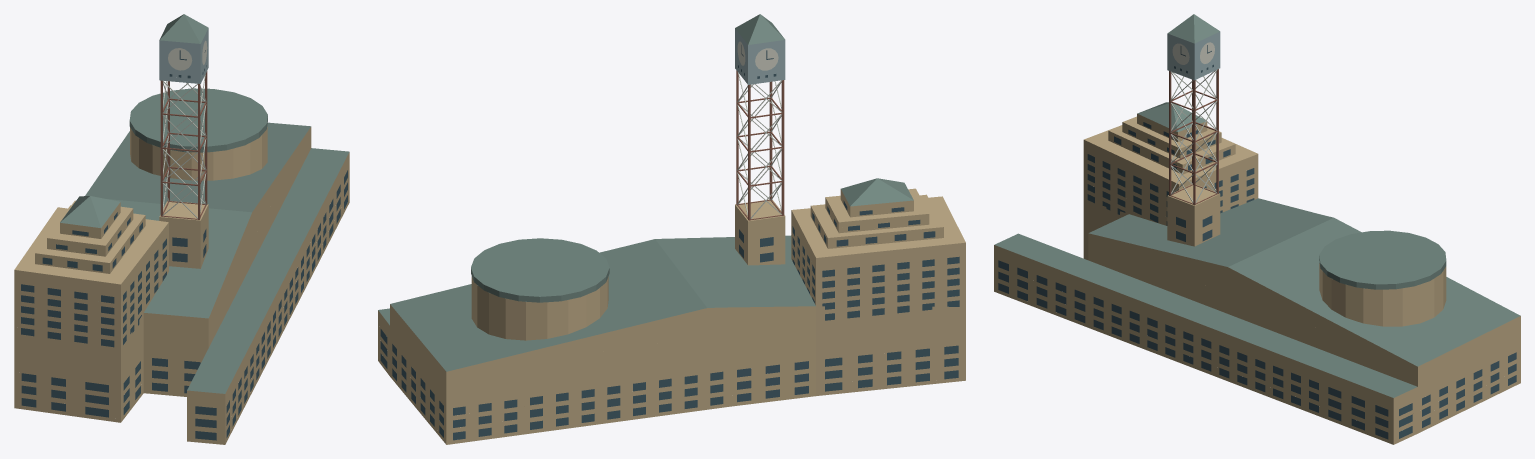
Rendered from mississauga-civic-centre-far.glb.
3 views of the same model, side by side, from view 1: azimuth 30°, elevation 25°; view 2: azimuth 150°, elevation 25°; view 3: azimuth 270°, elevation 25° (orthographic). The views are drawn at different scales.
Visible parts, largest first — view 1: mississauga-civic-centre-0-stone, mississauga-civic-centre-0-roof, mississauga-civic-centre-0-glass, mississauga-civic-centre-0-brace, mississauga-civic-centre-0-clock, mississauga-civic-centre-0-column, mississauga-civic-centre-0-frame, mississauga-civic-centre-0-dial; view 2: mississauga-civic-centre-0-stone, mississauga-civic-centre-0-roof, mississauga-civic-centre-0-glass, mississauga-civic-centre-0-column, mississauga-civic-centre-0-brace, mississauga-civic-centre-0-clock, mississauga-civic-centre-0-frame, mississauga-civic-centre-0-dial; view 3: mississauga-civic-centre-0-stone, mississauga-civic-centre-0-roof, mississauga-civic-centre-0-glass, mississauga-civic-centre-0-brace, mississauga-civic-centre-0-clock, mississauga-civic-centre-0-column, mississauga-civic-centre-0-frame, mississauga-civic-centre-0-dial.
Part boxes in pixels (x1,y1,x2,y2): mississauga-civic-centre-0-stone: (14, 127, 349, 444); mississauga-civic-centre-0-roof: (60, 14, 349, 393); mississauga-civic-centre-0-glass: (21, 50, 347, 440); mississauga-civic-centre-0-brace: (162, 74, 206, 218); mississauga-civic-centre-0-clock: (159, 28, 208, 83); mississauga-civic-centre-0-column: (160, 71, 207, 219); mississauga-civic-centre-0-frame: (162, 98, 206, 219); mississauga-civic-centre-0-dial: (168, 40, 207, 70); mississauga-civic-centre-0-stone: (378, 188, 965, 444); mississauga-civic-centre-0-roof: (378, 14, 948, 371); mississauga-civic-centre-0-glass: (380, 45, 959, 440); mississauga-civic-centre-0-column: (736, 70, 784, 220); mississauga-civic-centre-0-brace: (737, 72, 781, 218); mississauga-civic-centre-0-clock: (735, 29, 785, 84); mississauga-civic-centre-0-frame: (737, 97, 782, 219); mississauga-civic-centre-0-dial: (737, 41, 778, 70); mississauga-civic-centre-0-stone: (994, 113, 1520, 444); mississauga-civic-centre-0-roof: (994, 14, 1520, 397); mississauga-civic-centre-0-glass: (998, 45, 1516, 439); mississauga-civic-centre-0-brace: (1170, 70, 1217, 203); mississauga-civic-centre-0-clock: (1167, 31, 1220, 80); mississauga-civic-centre-0-column: (1169, 69, 1218, 205); mississauga-civic-centre-0-frame: (1170, 90, 1217, 204); mississauga-civic-centre-0-dial: (1172, 42, 1214, 64).
Bounding box in the file's own units: 133 × 92 × 143.
